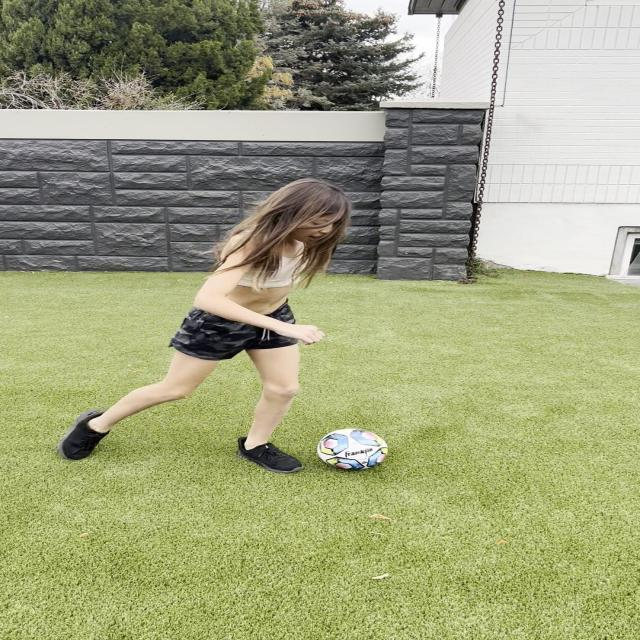Soccer Ball: (318, 428, 387, 470)
